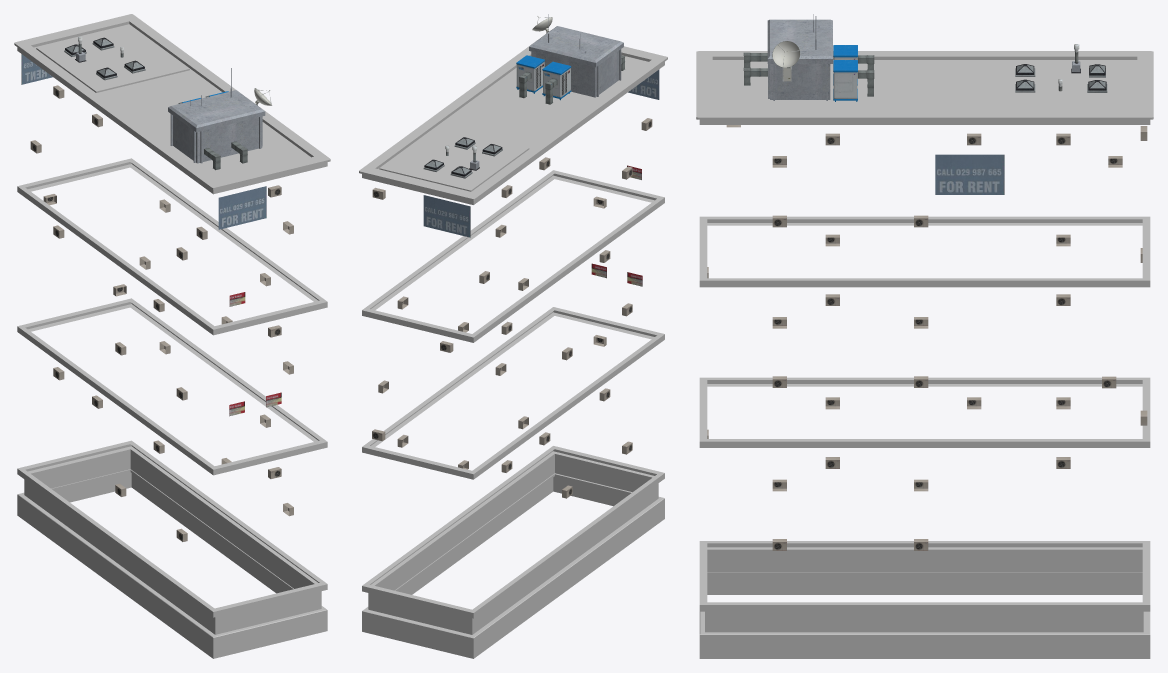
File: u2NWBuild8.gltf
The picture shows the model from 3 angles, left to right: view 1: azimuth 30°, elevation 25°; view 2: azimuth 150°, elevation 25°; view 3: azimuth 270°, elevation 25°; orthographic projection. The views are drawn at different scales.
Visible parts, largest first — view 1: u2NWBuild8; view 2: u2NWBuild8; view 3: u2NWBuild8.
Part boxes in pixels (x1,y1,x2,y2): u2NWBuild8: (14, 14, 330, 658); u2NWBuild8: (359, 14, 667, 658); u2NWBuild8: (696, 14, 1153, 658).
Size of the model in its own units: 4.14 by 17.94 by 12.04.
